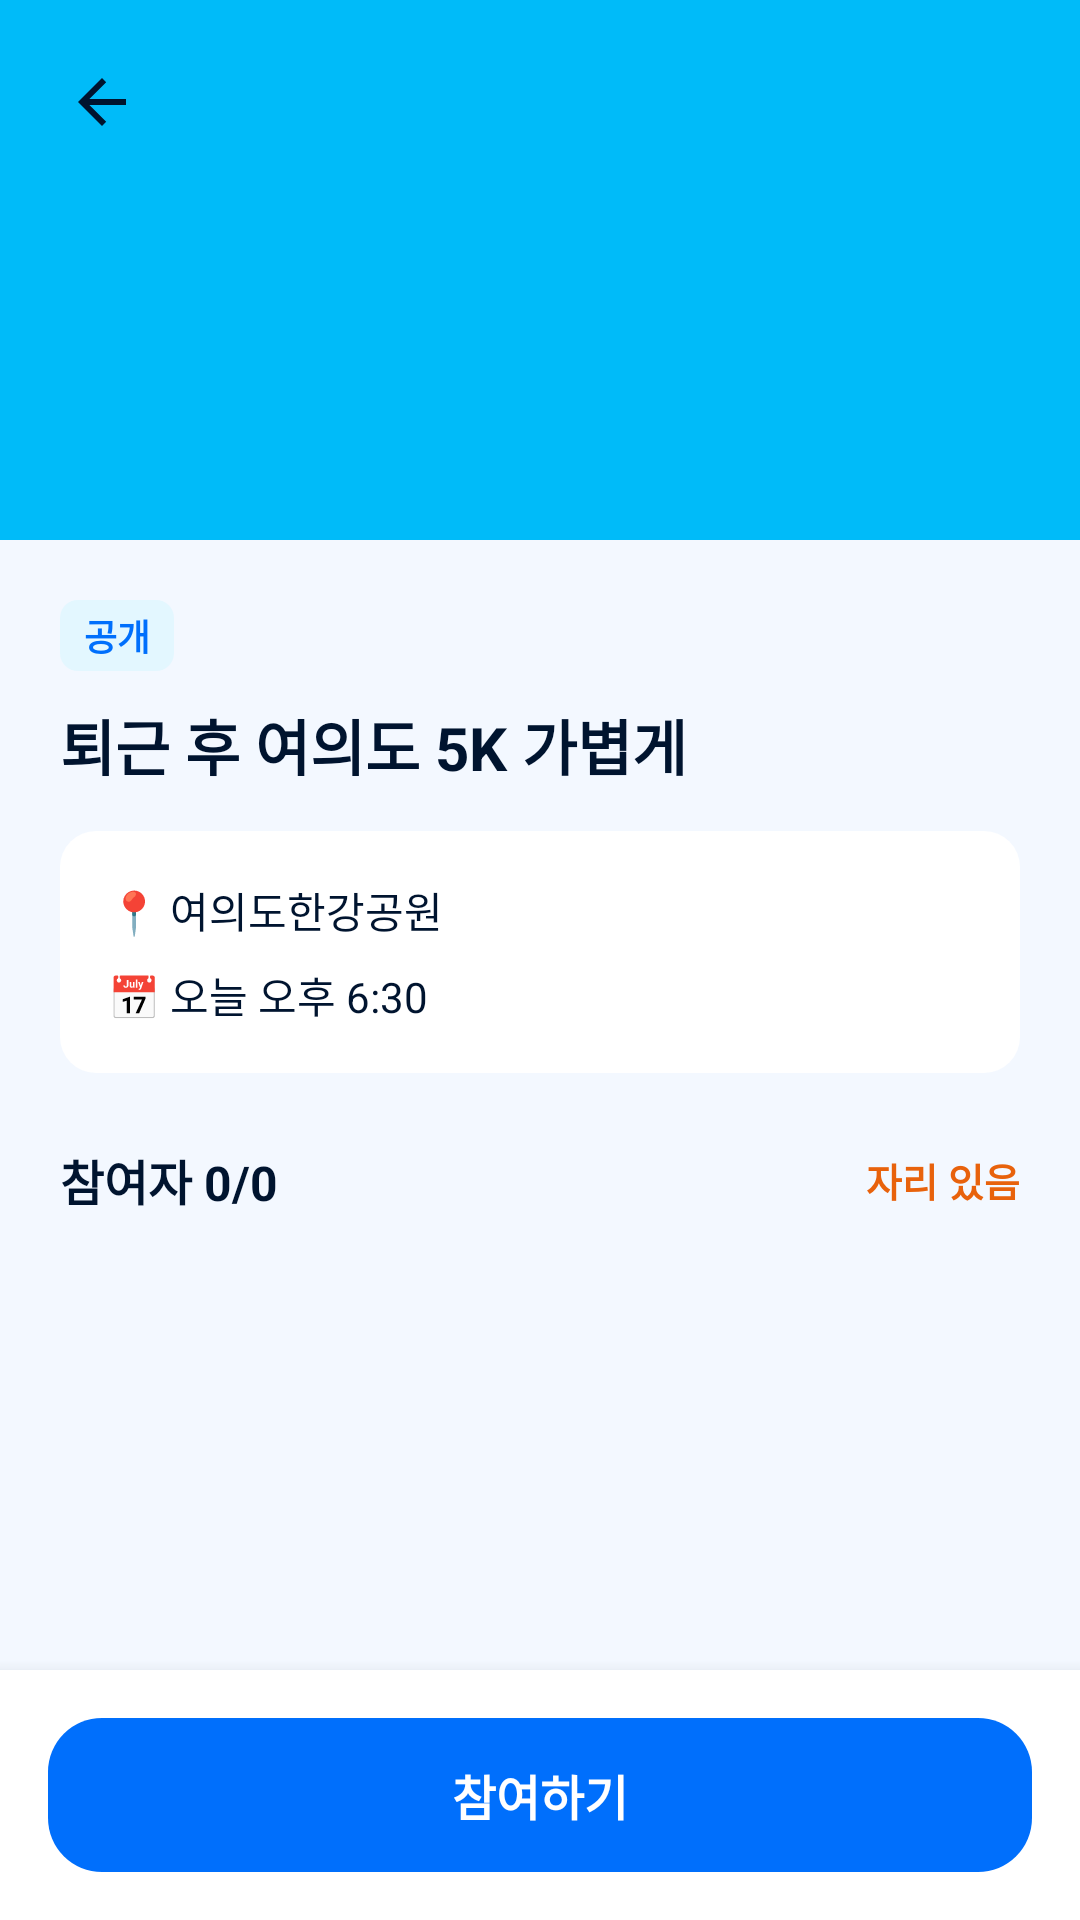

Icons on this 1080 x 1920 Android screen, each with its box as bbox(x1, y1, x2, y2):
ab back: bbox(78, 78, 126, 126)
